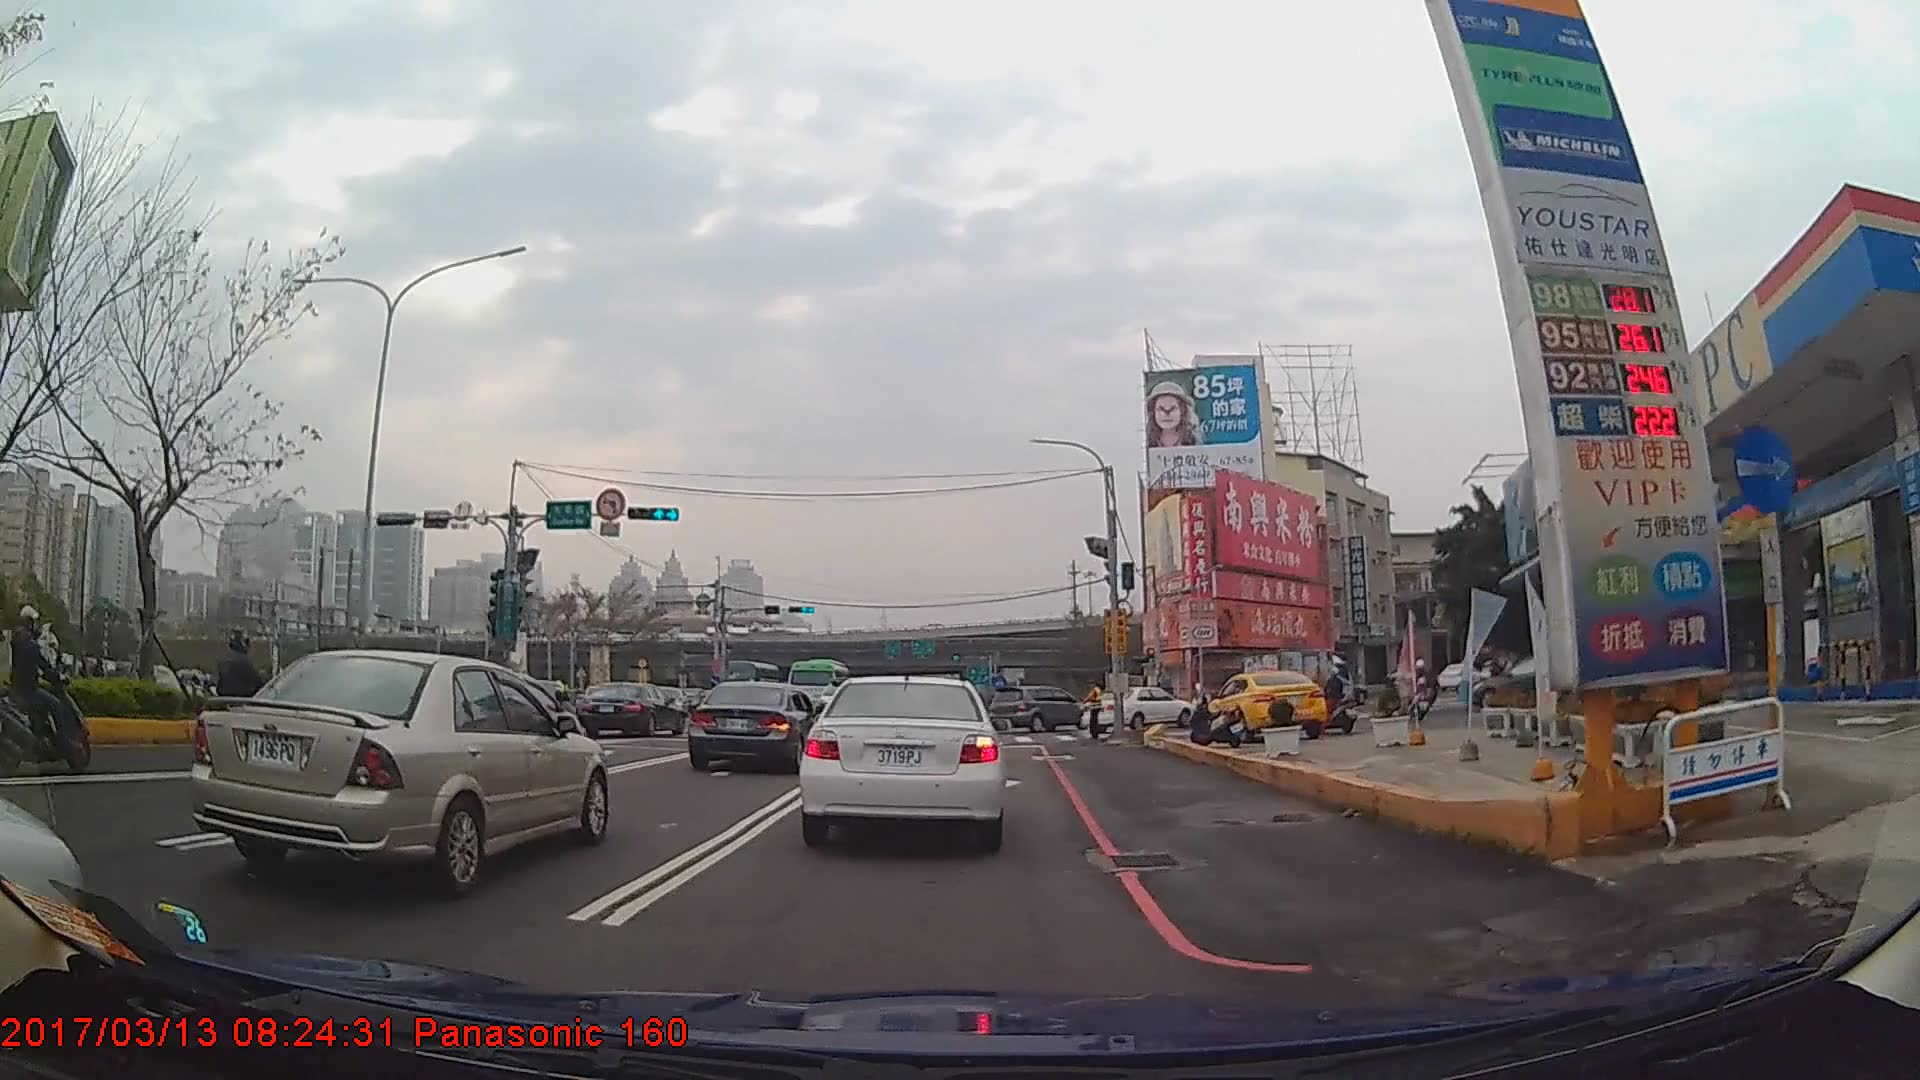pedestrian: (1077, 680, 1103, 741)
rider: (7, 607, 89, 779), (189, 627, 279, 781), (1316, 666, 1357, 736), (1405, 658, 1432, 722)
vehicle: (193, 647, 609, 897), (800, 668, 1004, 847), (684, 680, 822, 772), (1201, 667, 1327, 739), (1235, 646, 1352, 715), (576, 680, 680, 734), (1082, 681, 1192, 729), (989, 683, 1089, 730), (783, 656, 852, 713)
